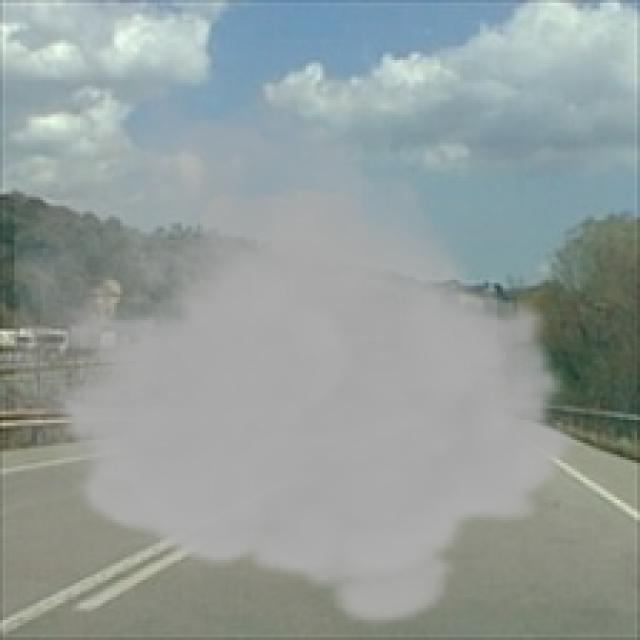Smoke: (14, 69, 577, 628)
